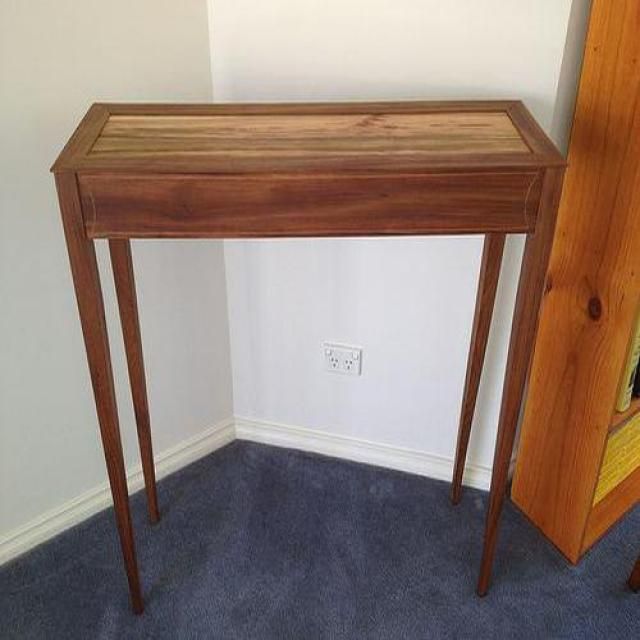table: (51, 101, 567, 616)
